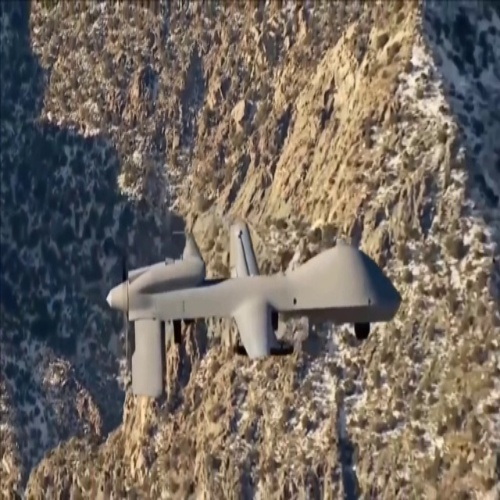uav802: (104, 216, 407, 400)
